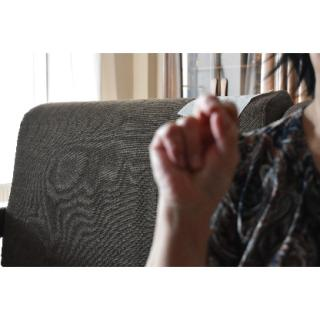QAAF: (146, 87, 244, 206)
